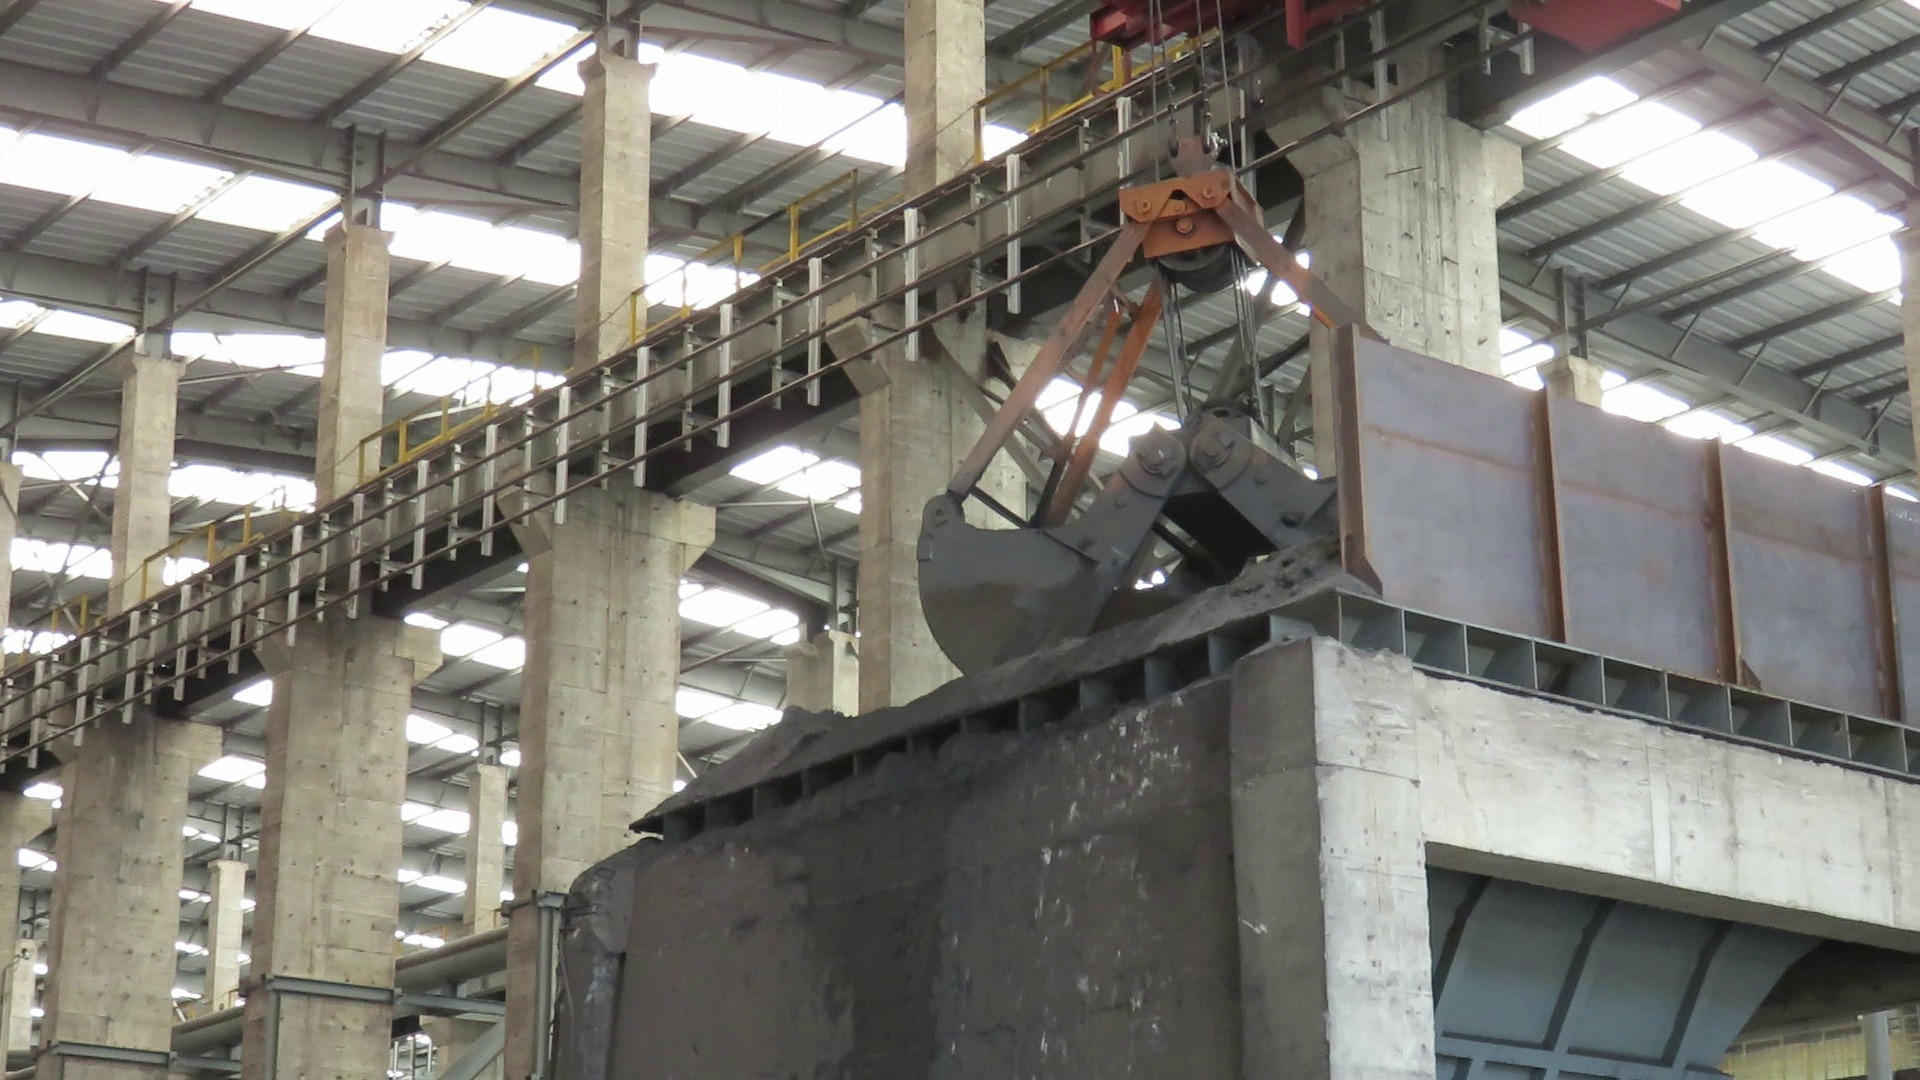grab: (907, 131, 1395, 679)
